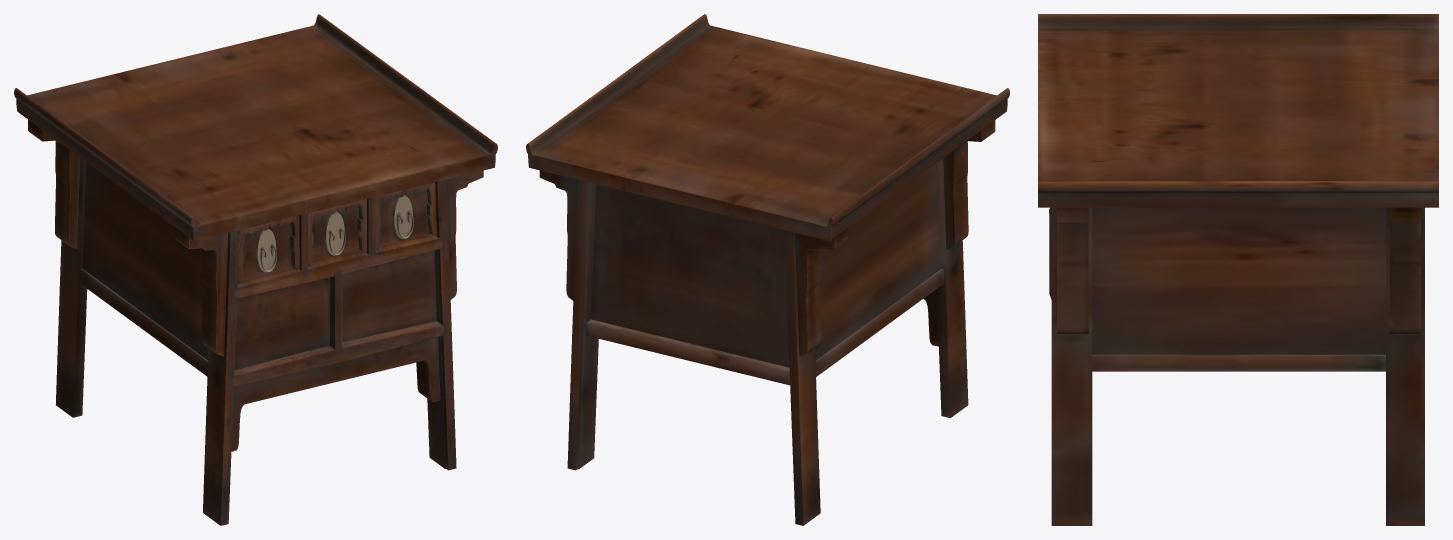
The model's file is ph-chinese-commode.glb.
3 renders of one model, left to right at view 1: azimuth 30°, elevation 25°; view 2: azimuth 150°, elevation 25°; view 3: azimuth 270°, elevation 25°, orthographic. The views are drawn at different scales.
Parts seen in each view (by area): view 1: chinese_commode; view 2: chinese_commode; view 3: chinese_commode.
Part boxes in pixels (x1,y1,x2,y2): chinese_commode: (14, 14, 497, 525); chinese_commode: (526, 14, 1009, 525); chinese_commode: (1038, 14, 1438, 525).
Size of the model in its own units: 1 by 1 by 1.
1 material, 1 textured.
